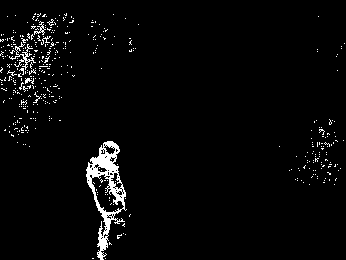person: (87, 139, 131, 259)
